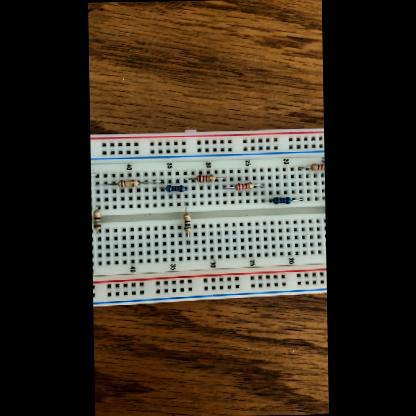breadboard: (90, 127, 326, 307)
resistor: (93, 210, 101, 230), (196, 174, 216, 182), (183, 213, 191, 232), (117, 179, 138, 186), (272, 196, 292, 203), (234, 182, 253, 189), (165, 184, 184, 191), (310, 163, 324, 171)
wire: (138, 180, 163, 182), (96, 183, 118, 185), (186, 232, 189, 244), (292, 198, 304, 201), (298, 166, 309, 169), (184, 178, 195, 181), (223, 186, 234, 188), (262, 200, 272, 202), (185, 202, 187, 212), (215, 178, 224, 180), (254, 184, 263, 186), (96, 229, 100, 233), (96, 205, 100, 209), (91, 174, 98, 176), (158, 187, 164, 189), (185, 188, 188, 190)
